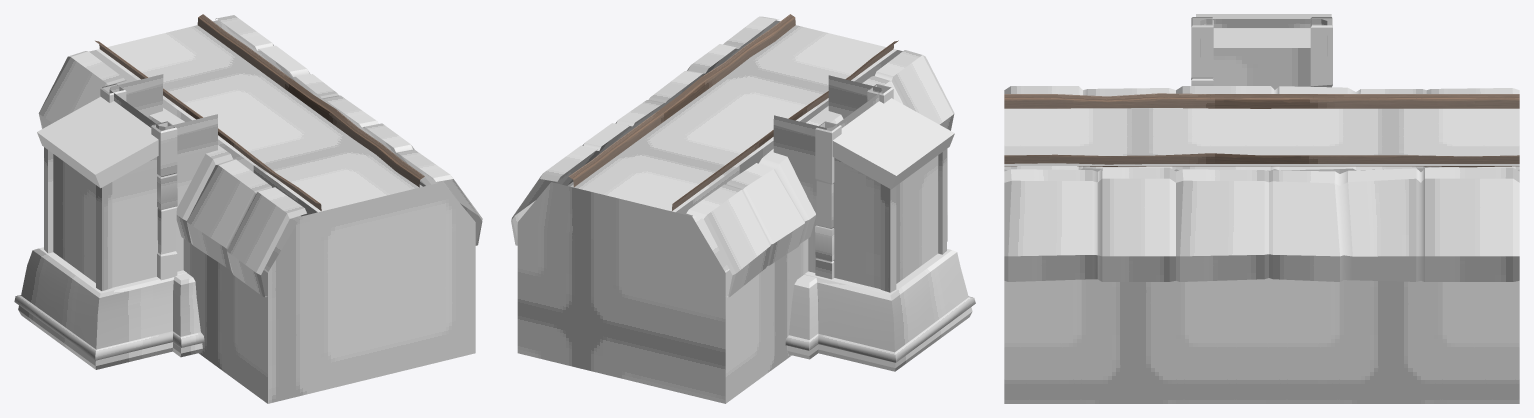
Rendered from SM_Wall_Half_Bottom.fbx.
3 views of the same model, side by side, from view 1: azimuth 30°, elevation 25°; view 2: azimuth 150°, elevation 25°; view 3: azimuth 270°, elevation 25° (orthographic). The views are drawn at different scales.
Parts seen in each view (by area): view 1: SM_Wall_Half_Bottom_LOD0; view 2: SM_Wall_Half_Bottom_LOD0; view 3: SM_Wall_Half_Bottom_LOD0.
Part boxes in pixels (x1,y1,x2,y2): SM_Wall_Half_Bottom_LOD0: (14, 14, 482, 403); SM_Wall_Half_Bottom_LOD0: (511, 14, 975, 403); SM_Wall_Half_Bottom_LOD0: (1004, 14, 1519, 403).
Size of the model in its own units: 826 by 1000 by 546.
